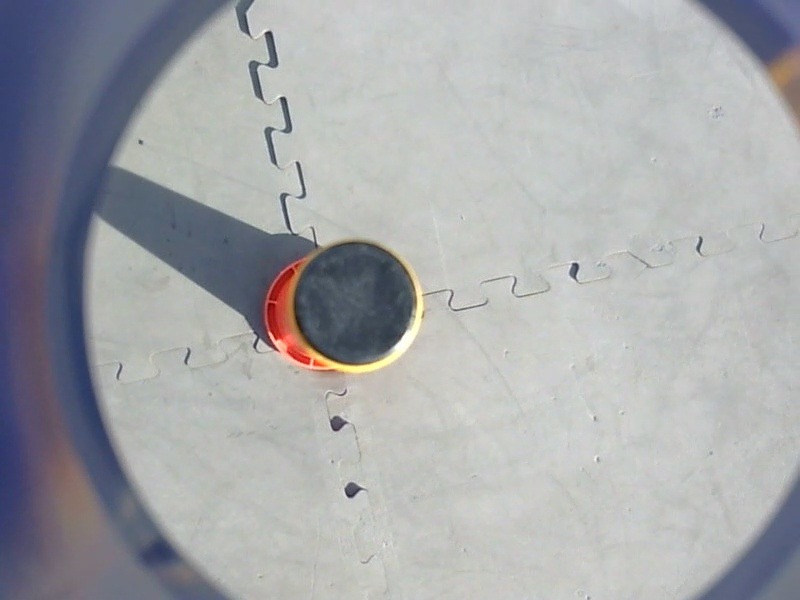tip: (281, 234, 432, 380)
